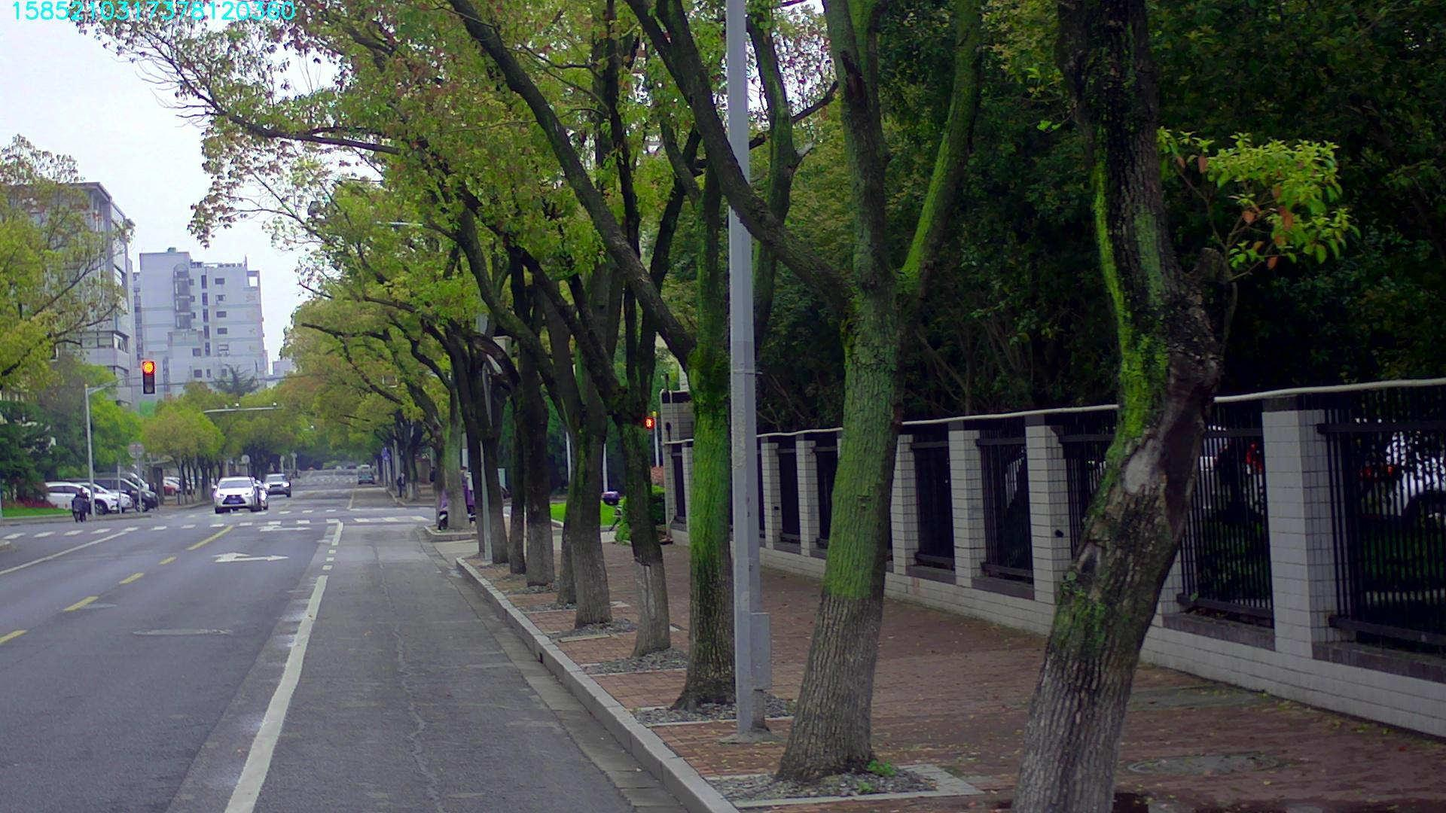red: (142, 360, 154, 394)
